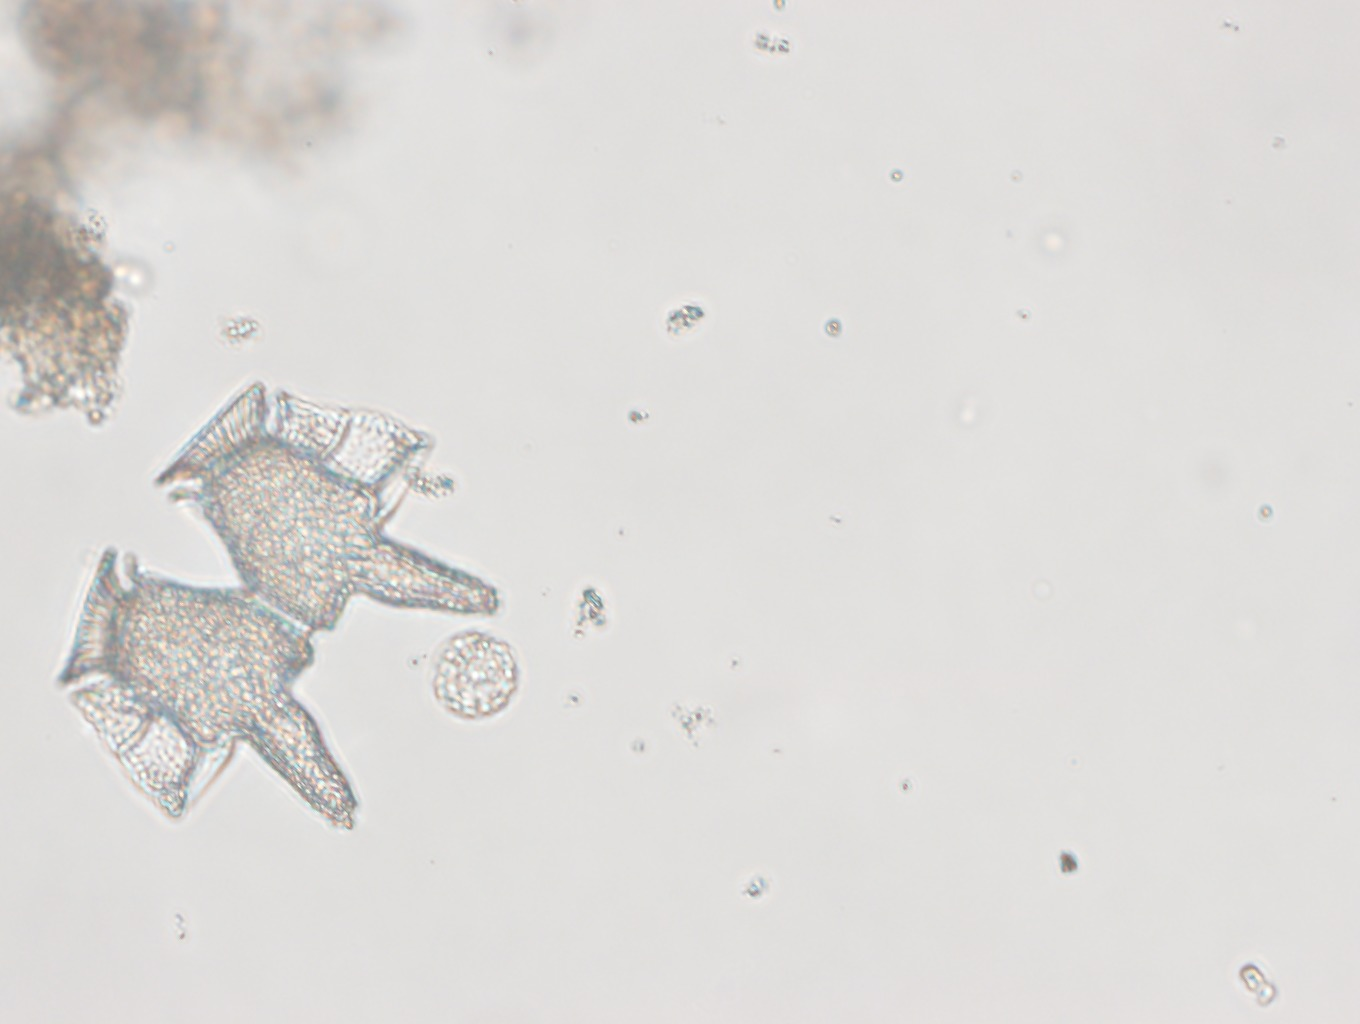dinophysis caudata: (55, 382, 493, 828)
